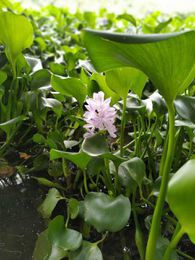water_hyacinth: (0, 18, 195, 260)
